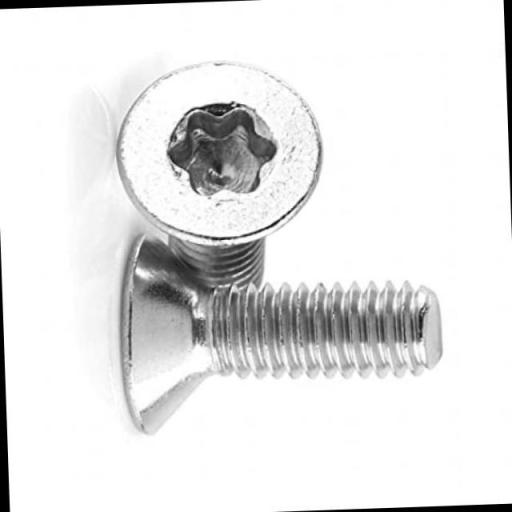Torx: (115, 57, 324, 247)
